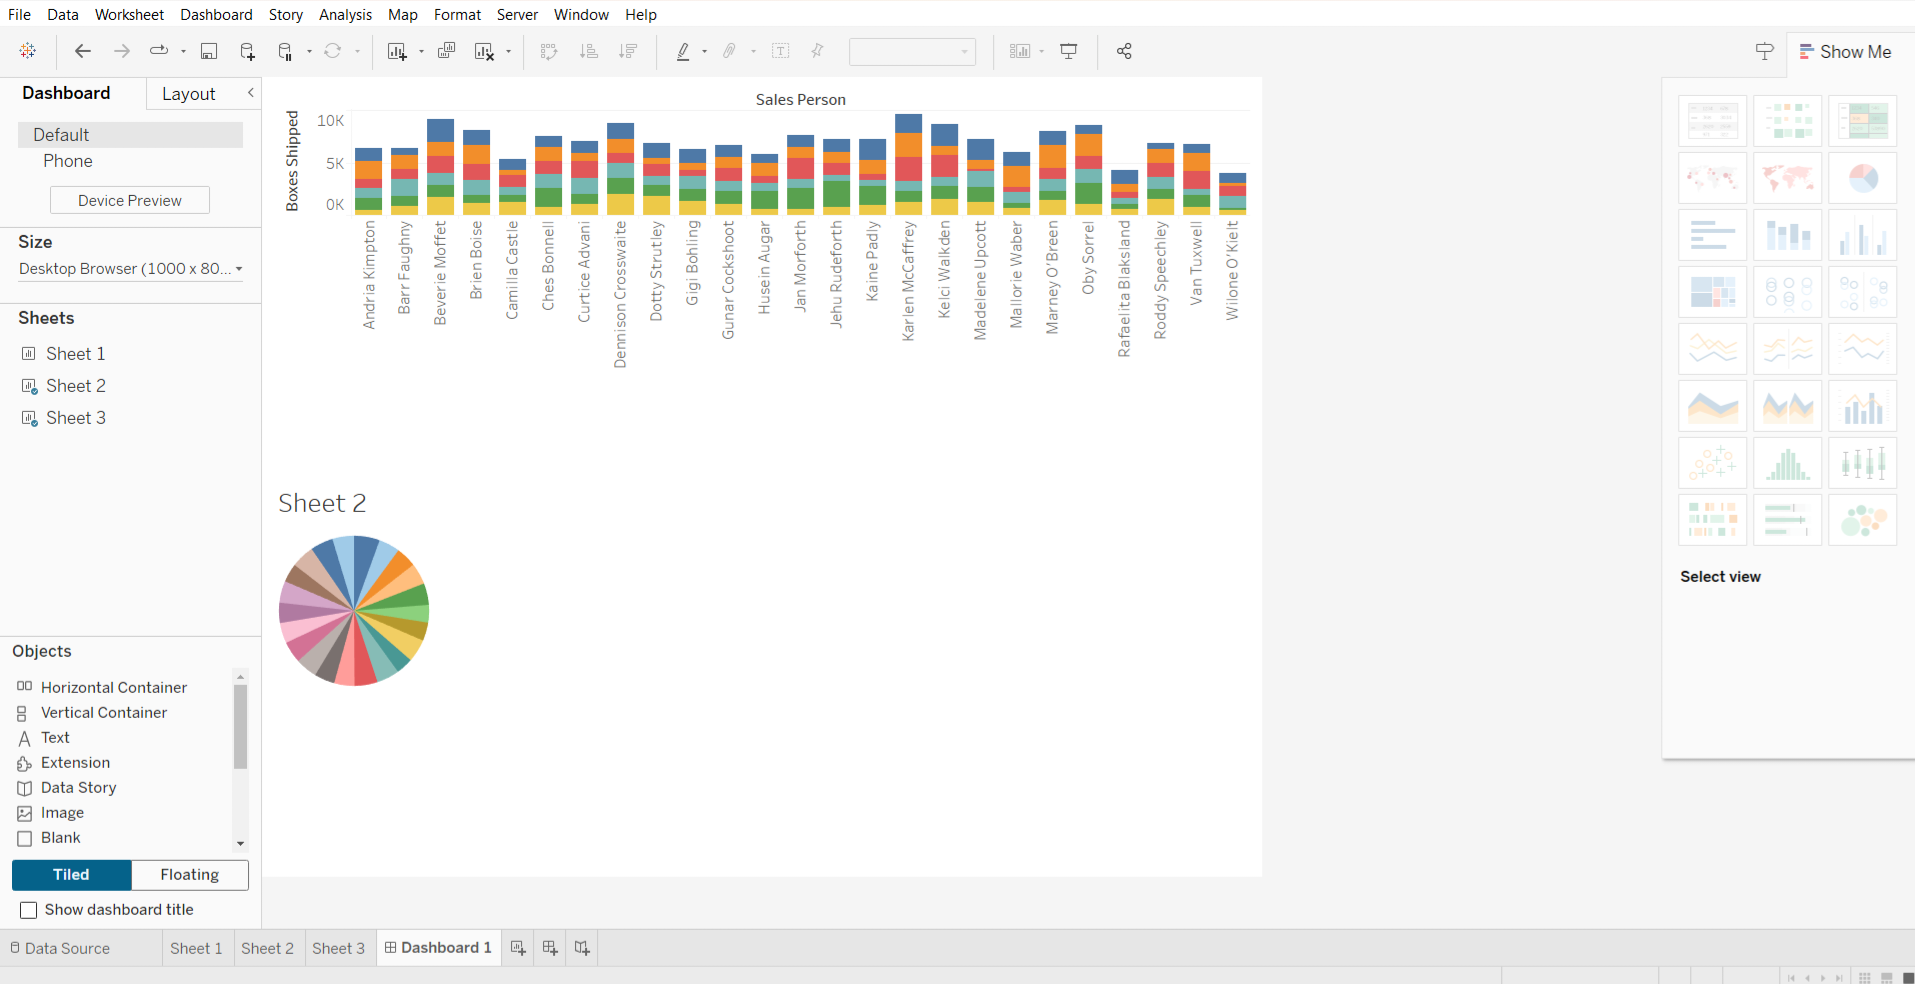

This screenshot's page, from the dashboard's own definition file:
{"tool":"tableau","page":{"name":"Dashboard 1","canvas":[1000,800],"ordinal":0},"visuals":[{"type":"worksheet","title":"Sheet 3","mark":"Automatic","rows":["Boxes Shipped"],"cols":["Sales Person"],"box":[8,8,984,392]},{"type":"worksheet","title":"Sheet 2","mark":"Pie","box":[8,400,984,392]}]}

Visuals, with their boxes on the page's 1000x800 design canvas (x1, y1, x2, y2). These are canvas units, not pixel positions in the 1915x984 screenshot, which may show the page scaled, cropped or inside an application window:
"Sheet 3" worksheet: [x1=8, y1=8, x2=992, y2=400]
"Sheet 2" worksheet (Pie marks): [x1=8, y1=400, x2=992, y2=792]
